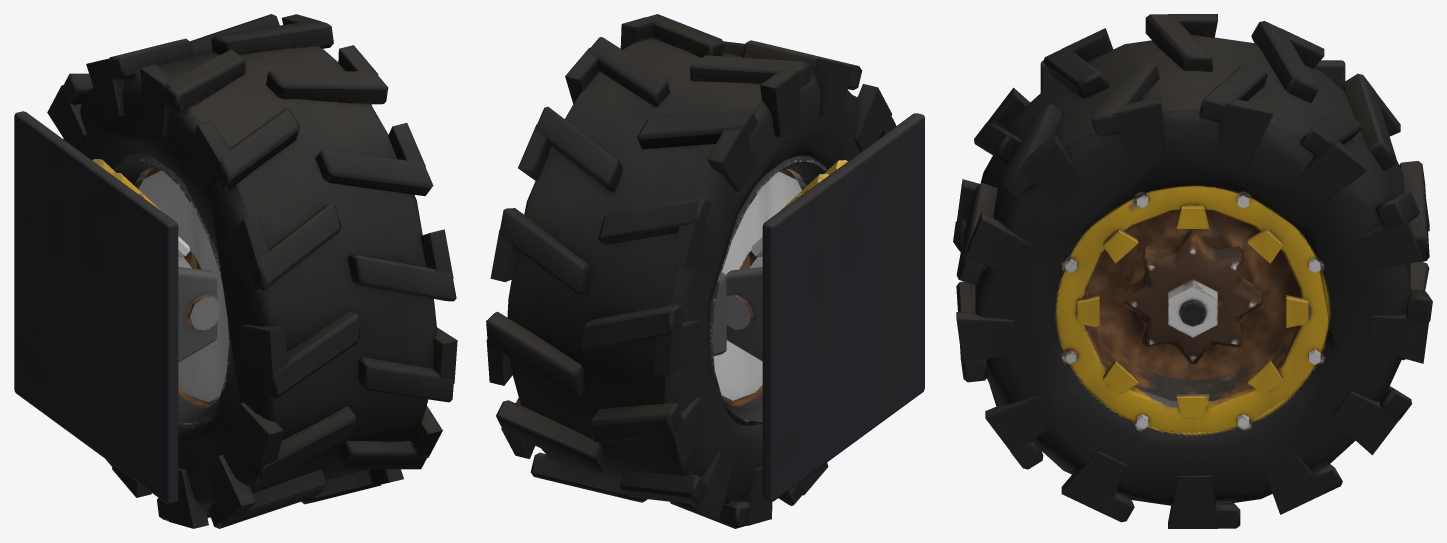
The model's file is R4M_WheelM_Side_Offroad_LOD1.fbx.
3 views of the same model, side by side, from view 1: azimuth 30°, elevation 25°; view 2: azimuth 150°, elevation 25°; view 3: azimuth 270°, elevation 25° (orthographic).
Visible parts, largest first — view 1: R4M_WheelM_Side_Offroad_LOD1; view 2: R4M_WheelM_Side_Offroad_LOD1; view 3: R4M_WheelM_Side_Offroad_LOD1.
Part boxes in pixels (<box>): R4M_WheelM_Side_Offroad_LOD1: <box>14,14,457,528</box>; R4M_WheelM_Side_Offroad_LOD1: <box>486,14,924,528</box>; R4M_WheelM_Side_Offroad_LOD1: <box>953,14,1432,528</box>.
Bounding box in the file's own units: 0.452 × 0.771 × 0.7711.
